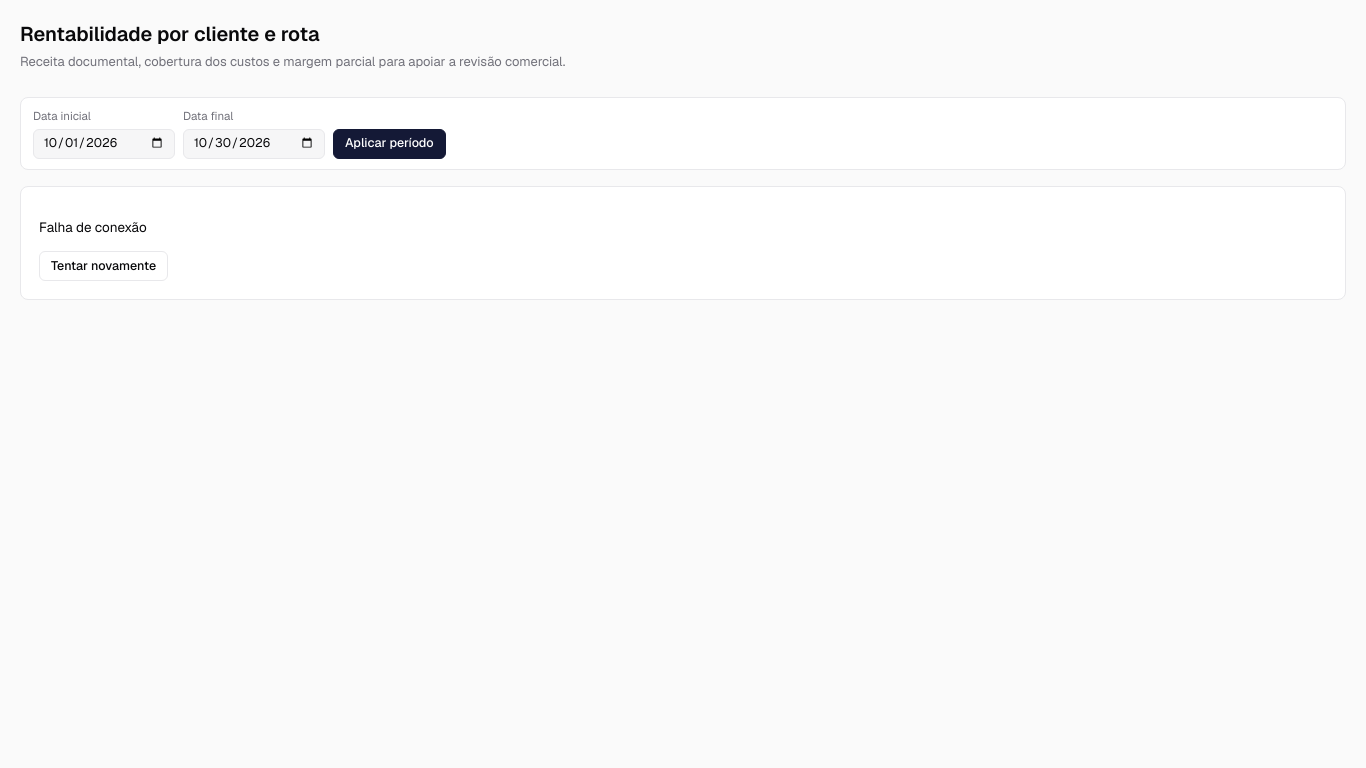
it: reports a loading failure and retries without invented zero totals
Check: the message "Falha de conexão Tentar novamente" is shown, box [20,186,1346,300]
Click the button "Tentar novamente".
click(104, 266)  # box [39,251,168,281]
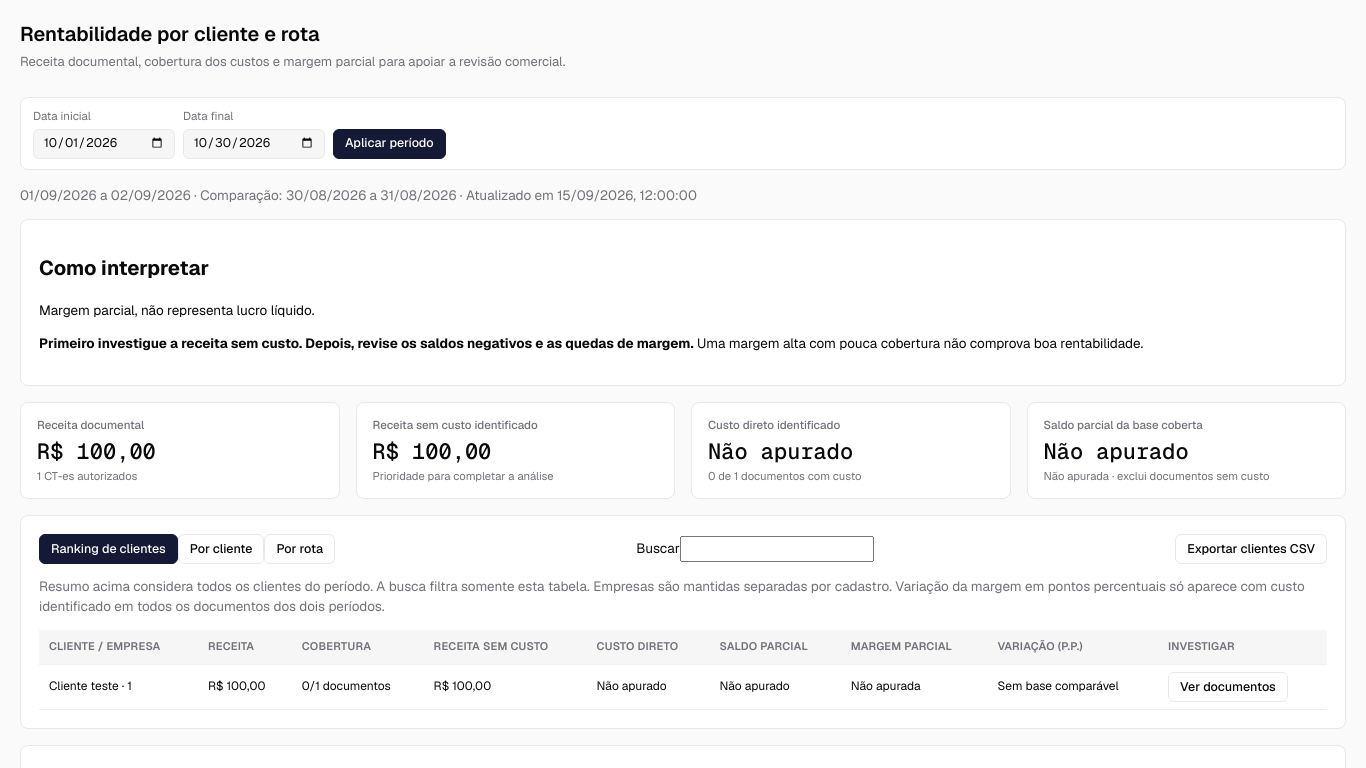
Check: the button "Ver documentos" is shown, box [1168,672,1288,702]
